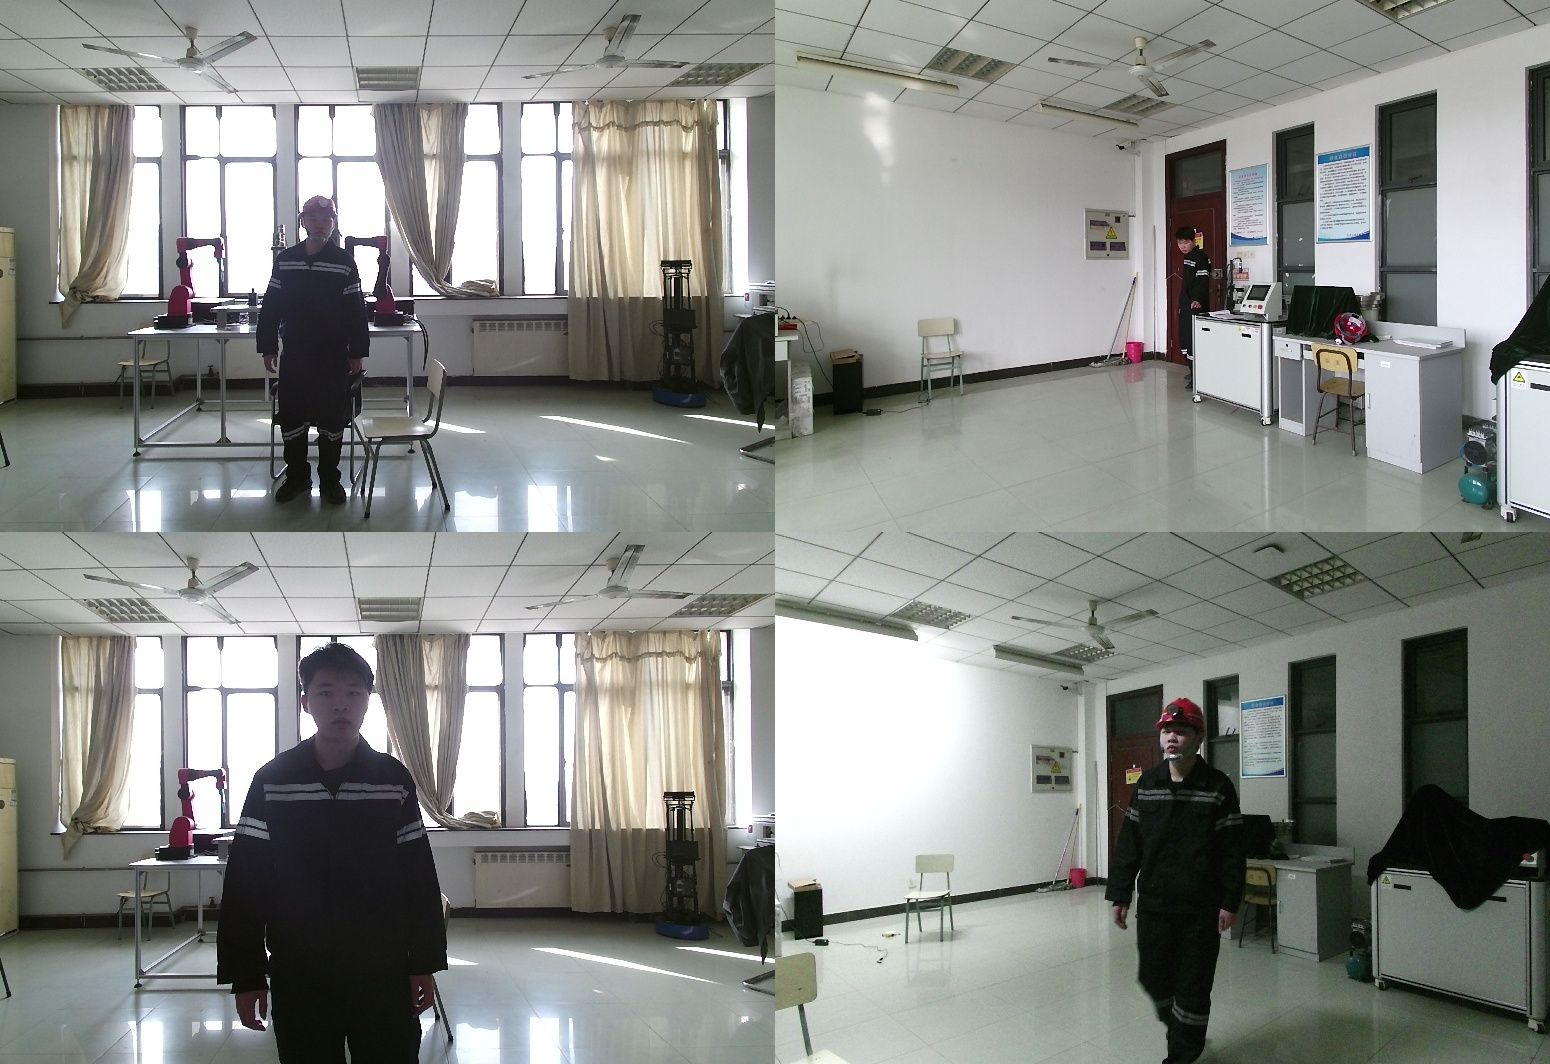person: (231, 645, 462, 1064), (1104, 697, 1257, 1064), (258, 196, 373, 511), (1176, 230, 1220, 318)
